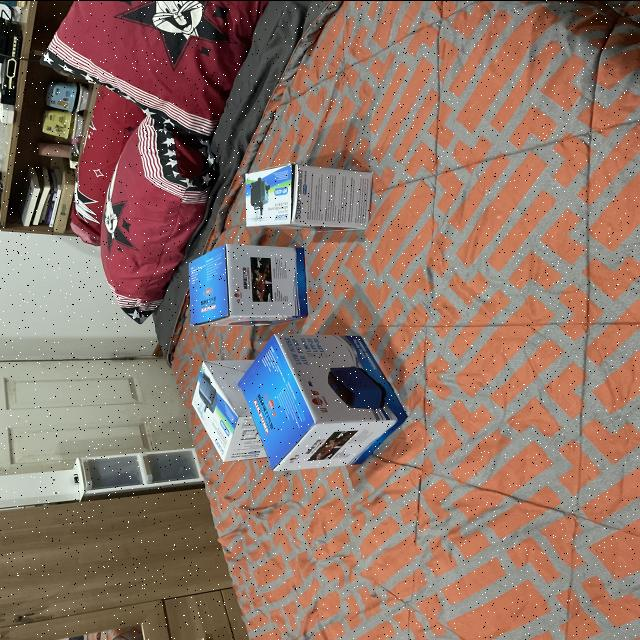SOBO_WP_4200: (172, 350, 302, 464), (232, 148, 392, 234)
YAMANO_LPP_20: (228, 324, 402, 480), (168, 236, 311, 336)
